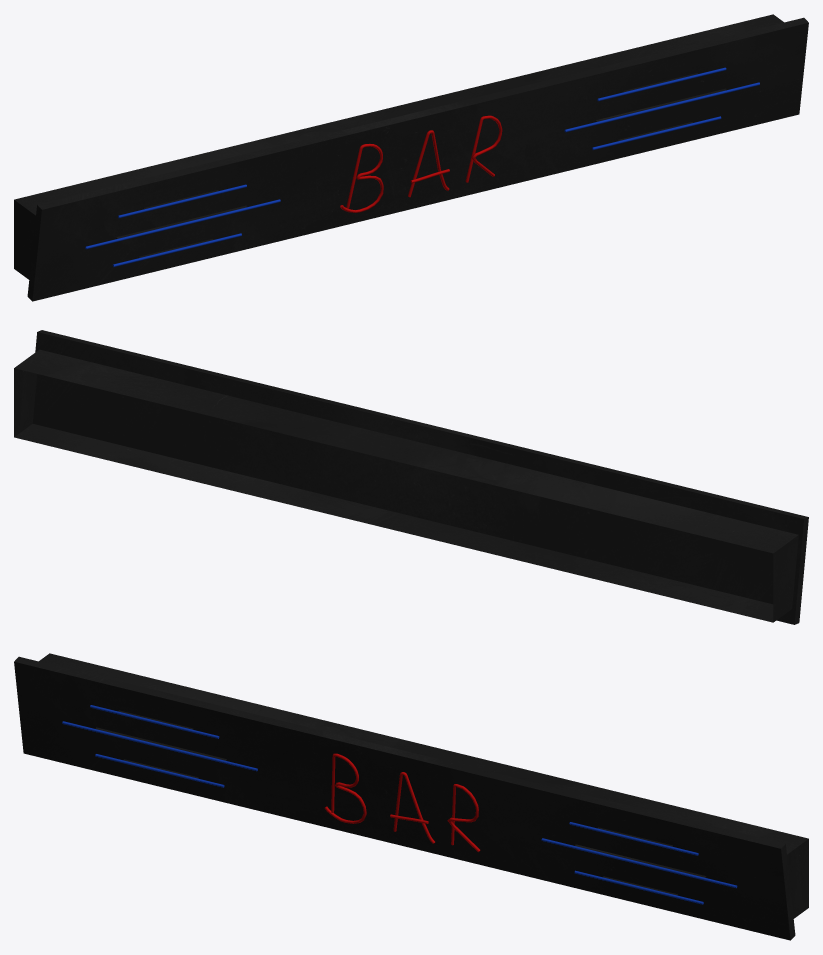
Rendered from BarSignboard.FBX.
3 views of the same model, one above another, from view 1: azimuth 30°, elevation 25°; view 2: azimuth 150°, elevation 25°; view 3: azimuth 330°, elevation 25° (orthographic).
Parts seen in each view (by area): view 1: Barsignboard; view 2: Barsignboard; view 3: Barsignboard.
Boxes of the visible parts, x1=… form: Barsignboard: x1=14, y1=14, x2=808, y2=301; Barsignboard: x1=14, y1=330, x2=808, y2=624; Barsignboard: x1=14, y1=653, x2=808, y2=940.
Bounding box in the file's own units: 400 × 50.01 × 29.29.
